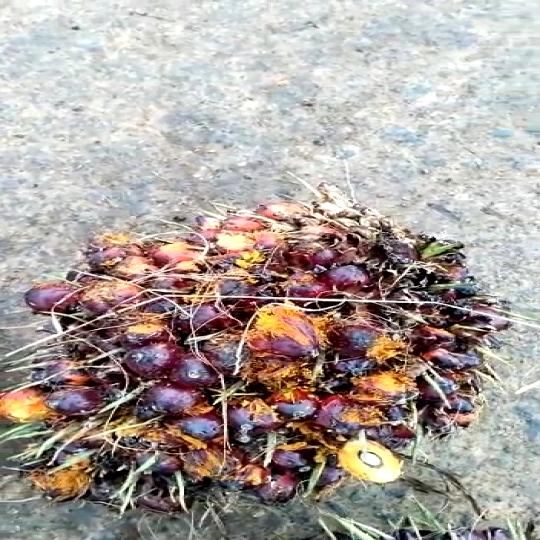masak: (0, 201, 540, 522)
